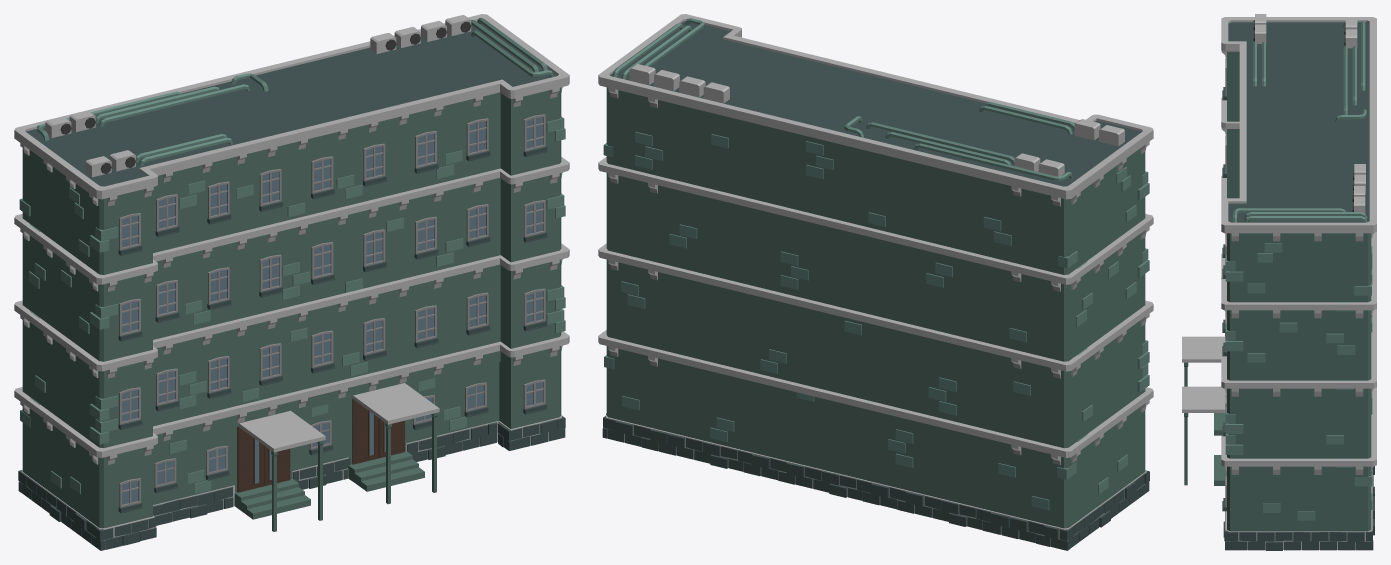
Rendered from quaternius-buildings-pack-3-4story-wide-2doors-mat.glb.
3 renders of one model, left to right at view 1: azimuth 30°, elevation 25°; view 2: azimuth 150°, elevation 25°; view 3: azimuth 270°, elevation 25°, orthographic. The views are drawn at different scales.
Visible parts, largest first — view 1: 4Story_Wide_2Doors_Mat; view 2: 4Story_Wide_2Doors_Mat; view 3: 4Story_Wide_2Doors_Mat.
Part boxes in pixels (x1,y1,x2,y2): 4Story_Wide_2Doors_Mat: (14,14,569,550); 4Story_Wide_2Doors_Mat: (598,14,1153,550); 4Story_Wide_2Doors_Mat: (1182,14,1376,550).
Bounding box in the file's own units: 6.83 × 5.15 × 2.7.
